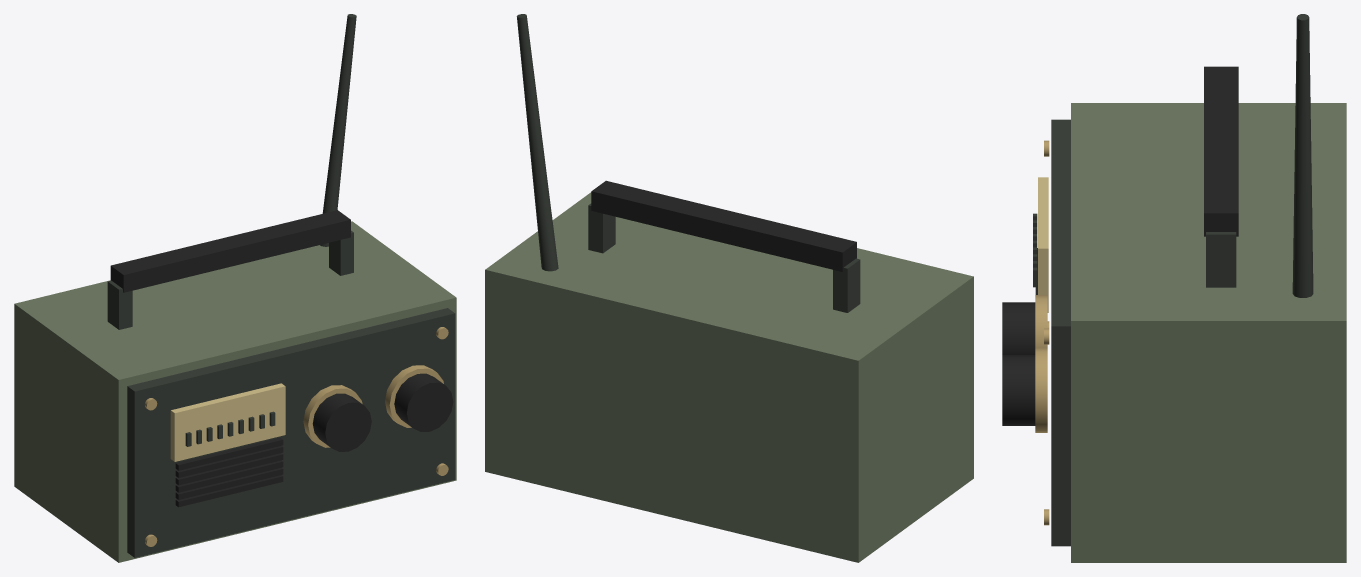
File: field-receiver.glb
3 renders of one model, left to right at view 1: azimuth 30°, elevation 25°; view 2: azimuth 150°, elevation 25°; view 3: azimuth 270°, elevation 25°, orthographic. The views are drawn at different scales.
Bounding box in the file's own units: 0.58 × 0.6644 × 0.387.
